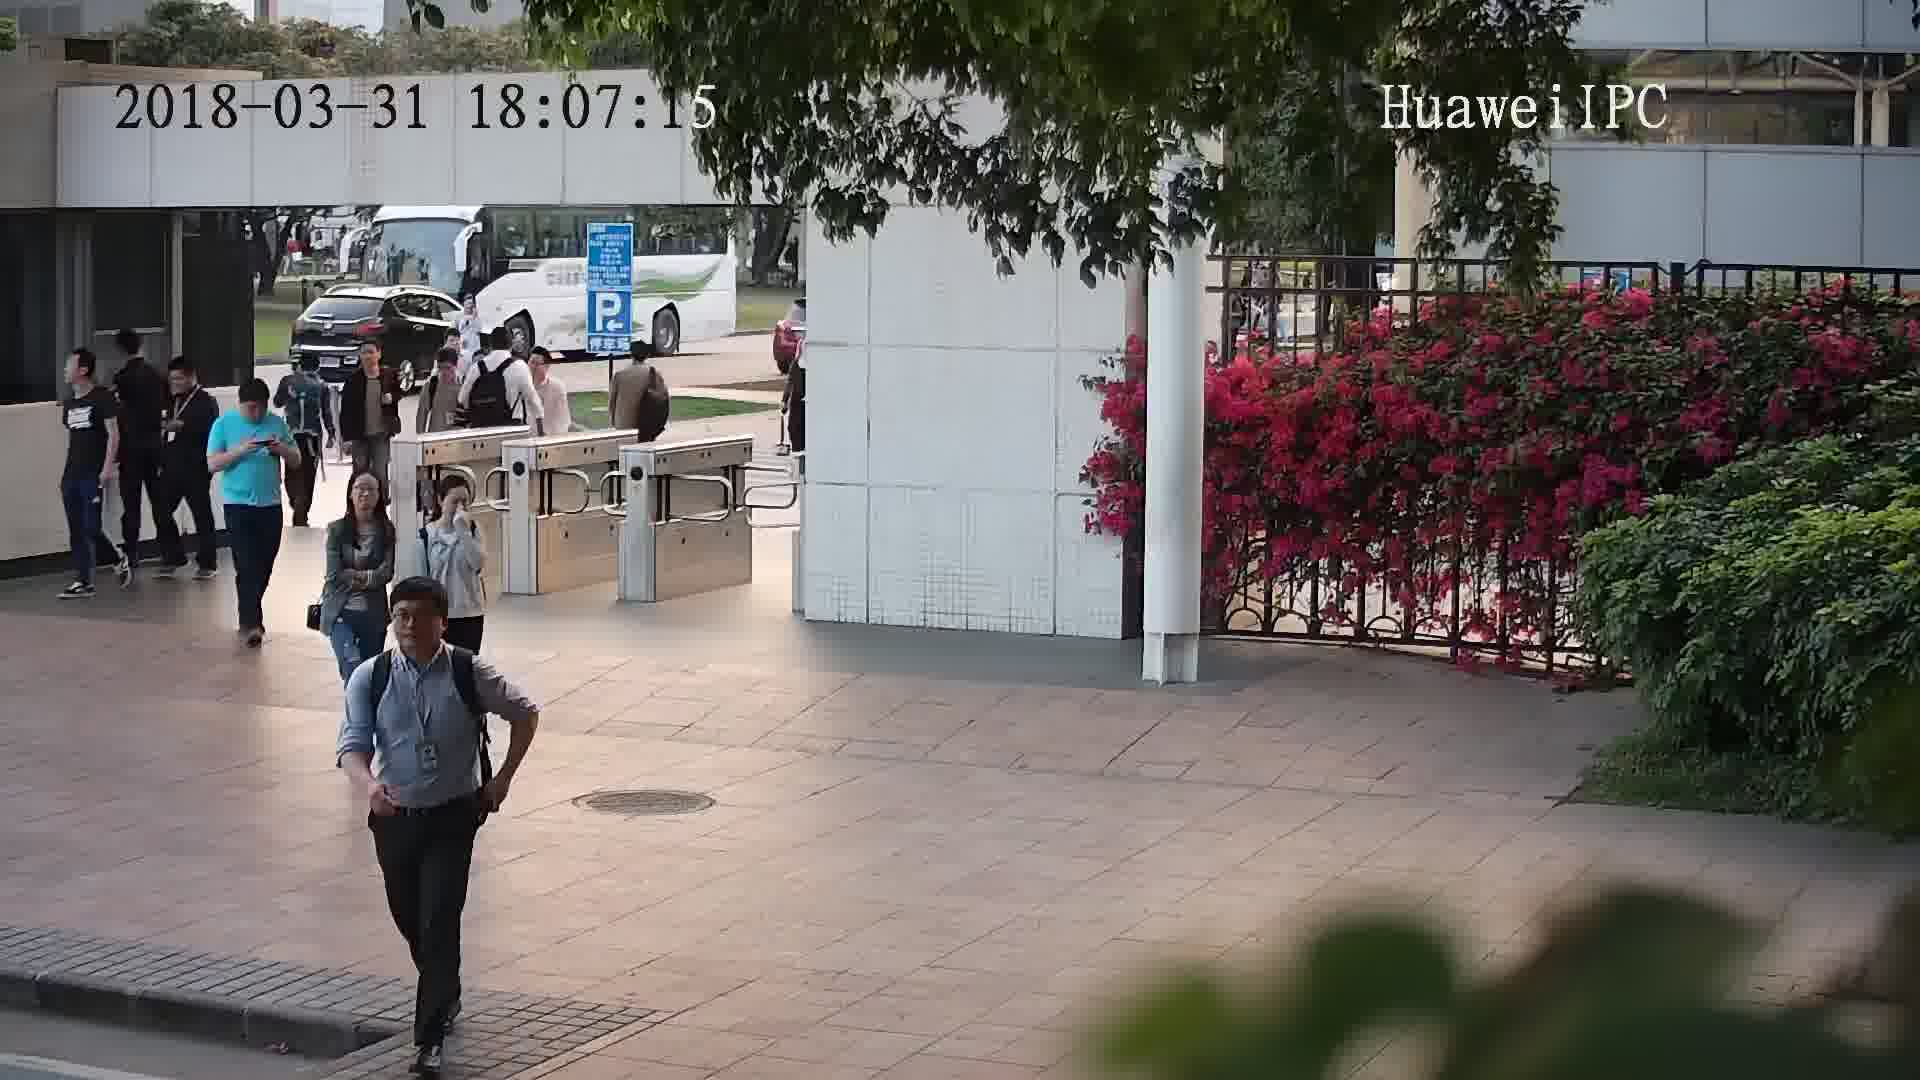face: (386, 595, 445, 654)
person: (351, 578, 495, 693), (325, 467, 397, 547), (216, 373, 294, 443), (424, 470, 480, 544), (63, 342, 113, 416), (163, 353, 220, 416), (113, 323, 164, 393), (472, 321, 523, 374), (281, 340, 330, 394), (345, 339, 395, 389), (614, 334, 666, 382), (422, 343, 467, 395), (520, 344, 561, 393), (451, 292, 486, 329), (441, 327, 474, 363)
